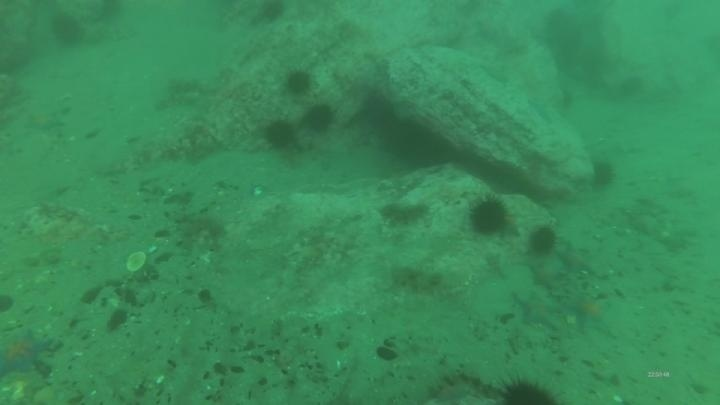echinus: (466, 194, 512, 238), (496, 376, 562, 405), (358, 90, 397, 131), (48, 11, 86, 49), (261, 117, 298, 152), (525, 223, 560, 258), (302, 101, 337, 135), (282, 66, 315, 98), (588, 157, 618, 191), (256, 1, 289, 25)
holothurian: (387, 262, 447, 297), (377, 197, 432, 229)
starfish: (1, 325, 56, 380), (566, 291, 615, 335), (513, 288, 563, 331), (555, 242, 597, 278), (528, 255, 568, 291), (21, 105, 66, 136), (428, 380, 474, 404)
